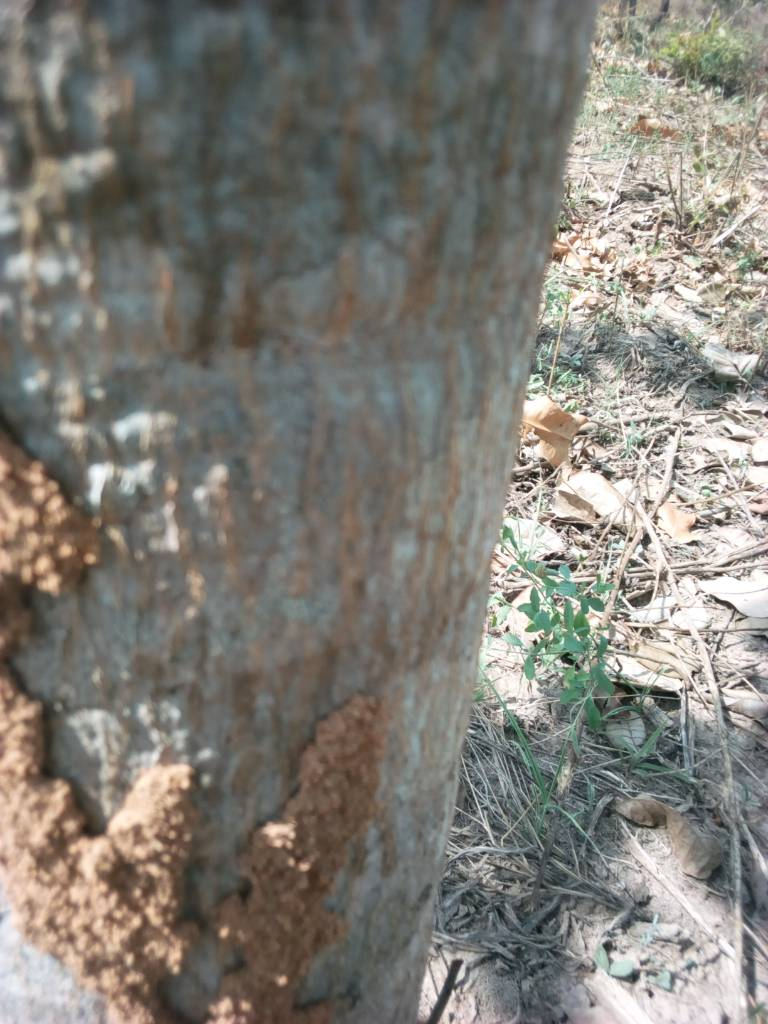Virose: (8, 416, 452, 1023)
